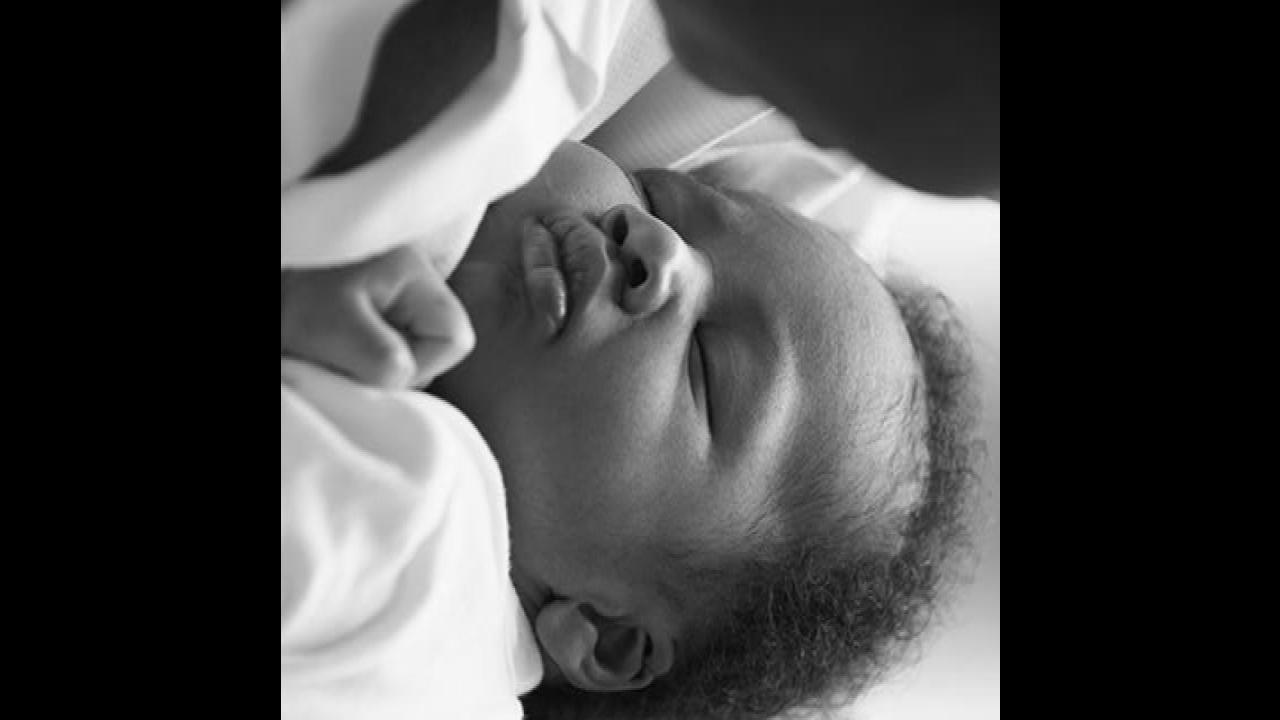hand: (280, 243, 471, 397)
